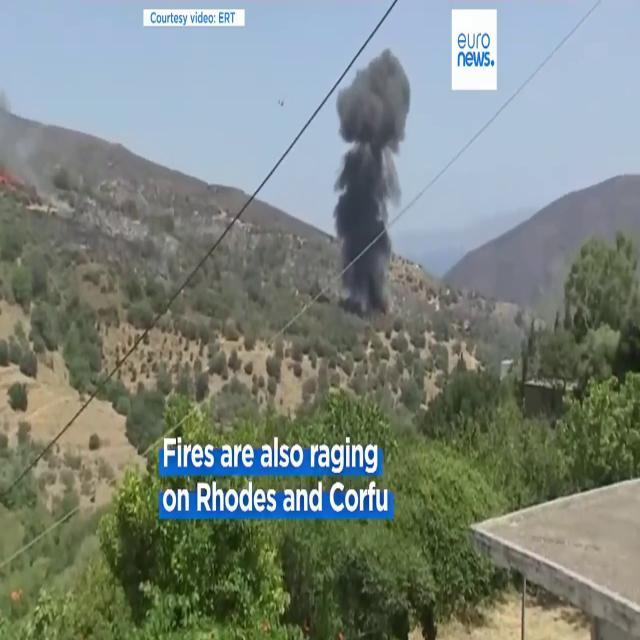Smoke: (328, 36, 412, 304)
